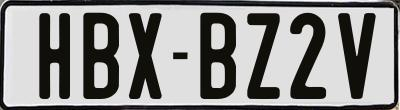2: (287, 11, 326, 100)
B: (82, 10, 122, 100), (200, 13, 240, 101)
H: (36, 11, 73, 97)
V: (338, 12, 380, 99)
X: (127, 13, 166, 103)
Z: (246, 13, 282, 104)
